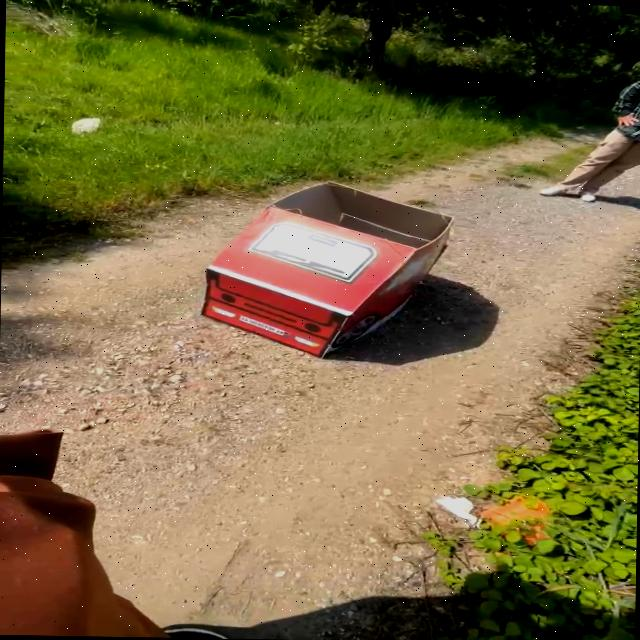red_car: (189, 168, 461, 368)
